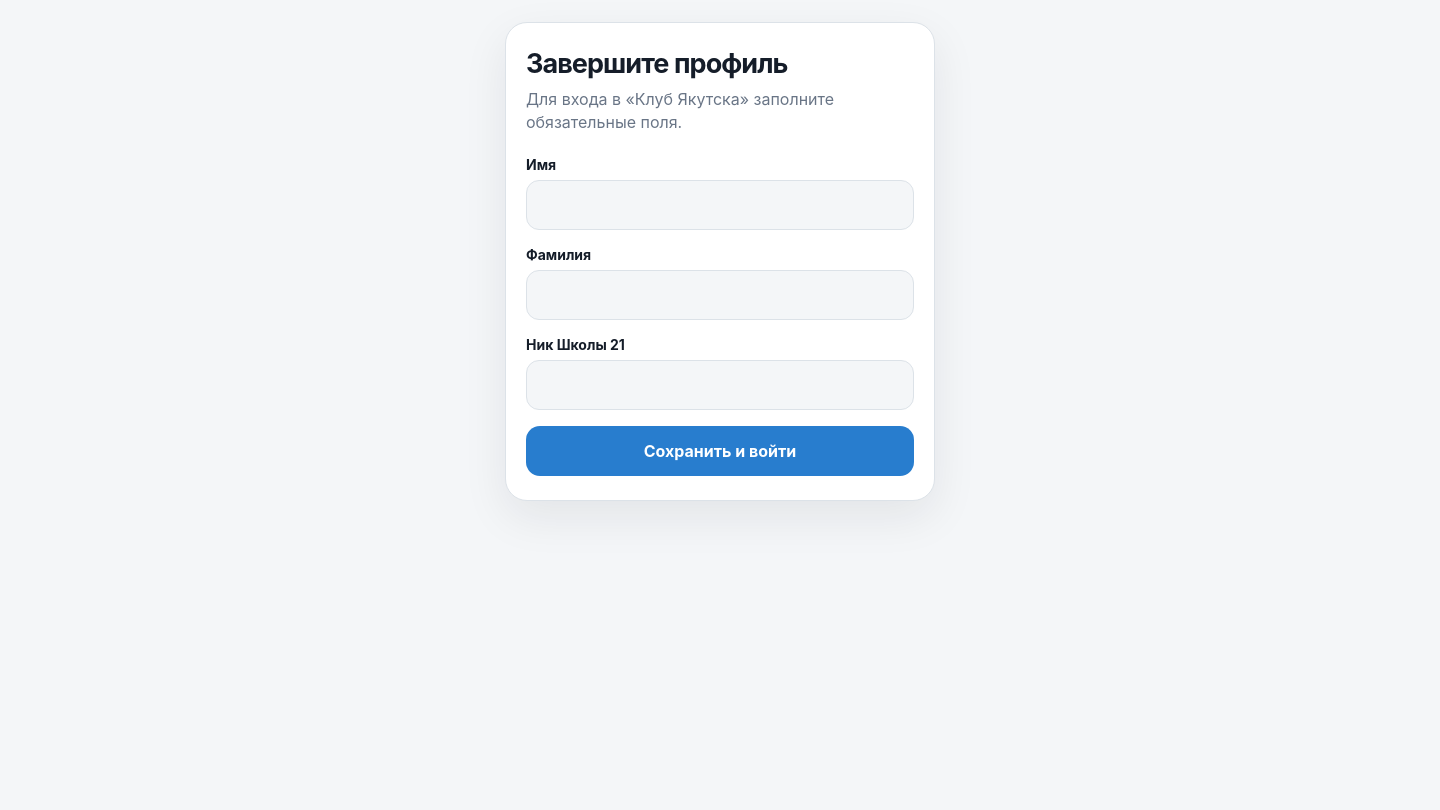
completes PROFILE_REQUIRED without an invitation
Expected: the heading "Завершите профиль" is shown, top-left (526, 47), bottom-right (788, 80)
Type "Иван" into the field labelled "Имя" at (720, 205), box top-left (526, 180), bottom-right (914, 230)
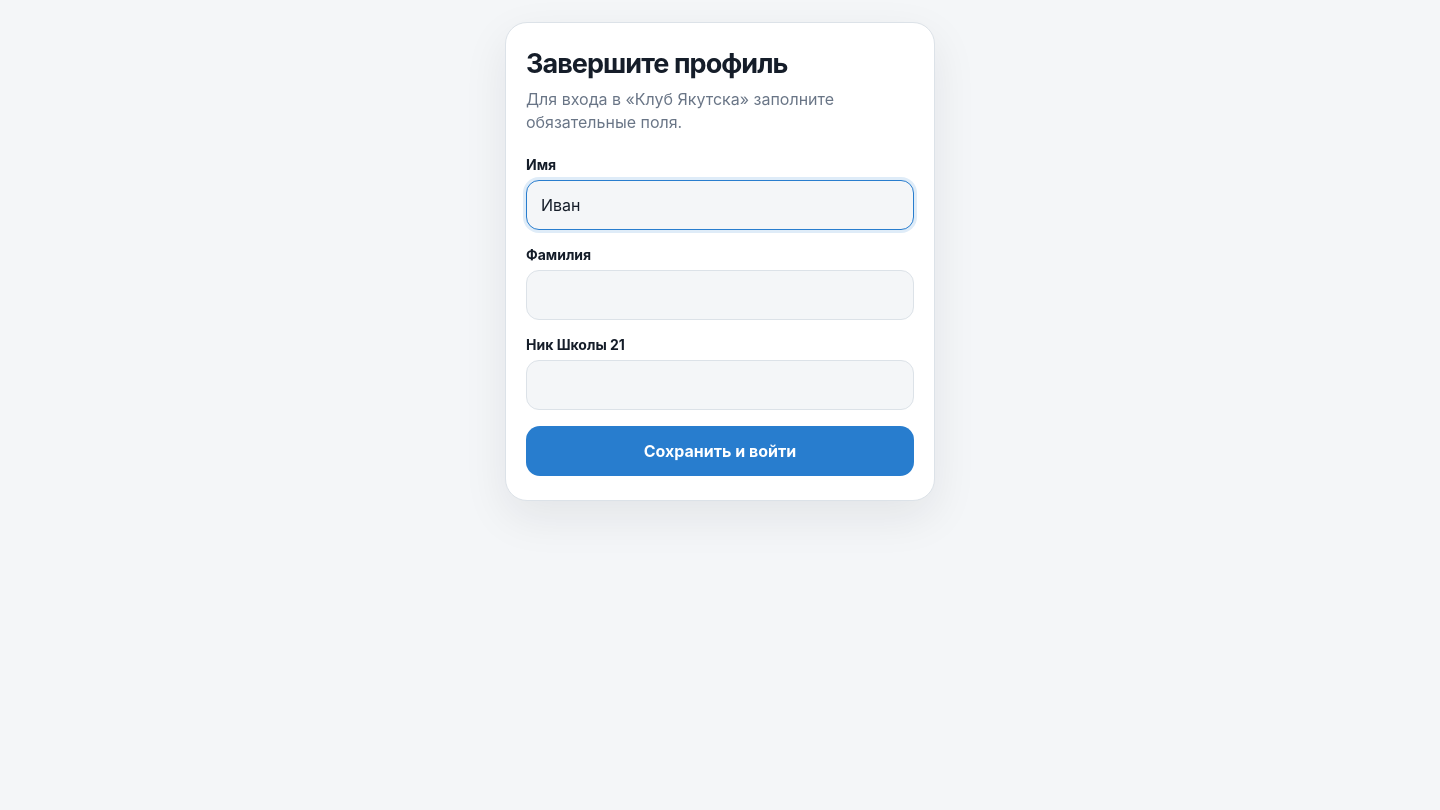
Type "Петров" into the field labelled "Фамилия" at (720, 295), box top-left (526, 270), bottom-right (914, 320)
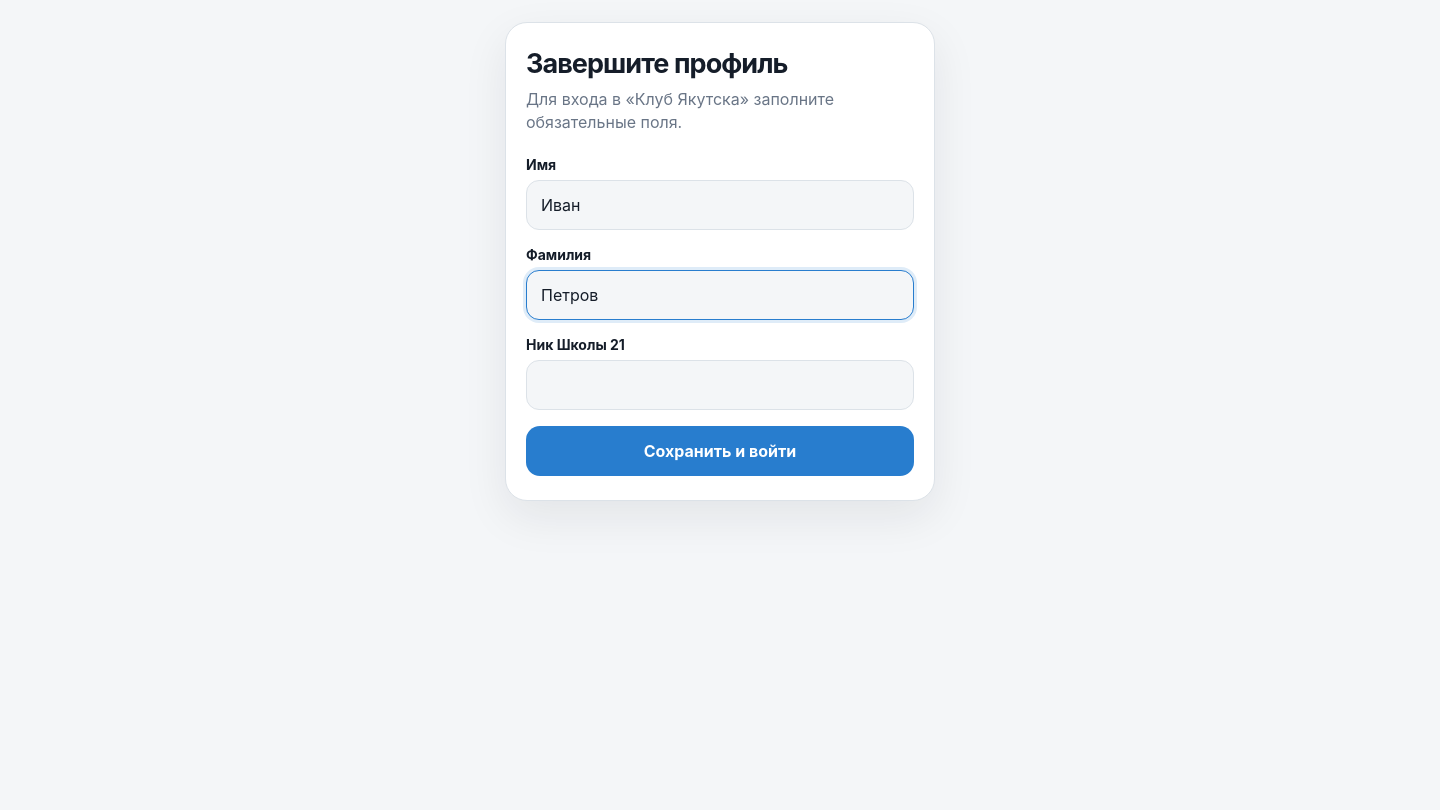
Type "ivan" into the field labelled "Ник Школы 21" at (720, 385), box top-left (526, 360), bottom-right (914, 410)
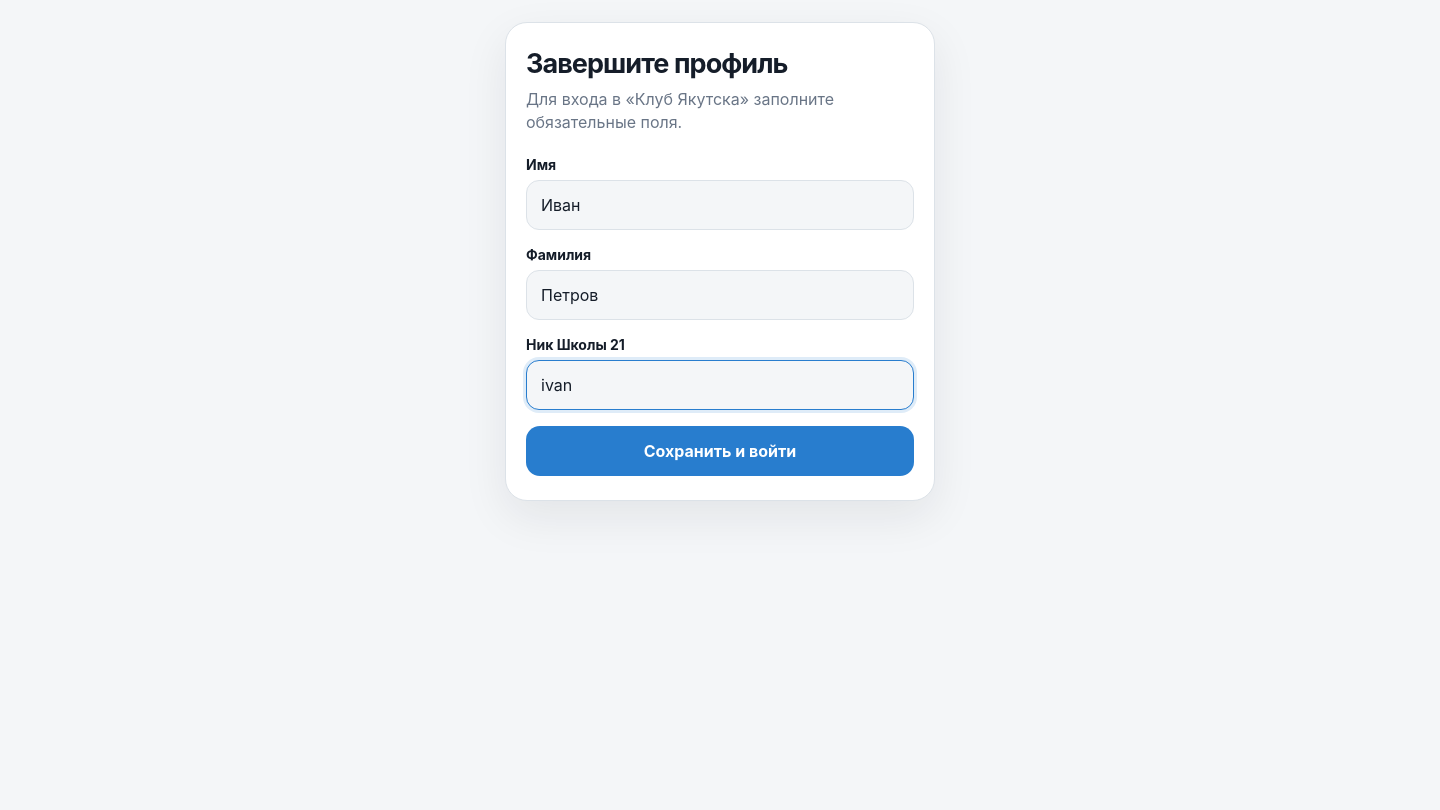
Click the button "Сохранить и войти" at (720, 451), box top-left (526, 426), bottom-right (914, 476)
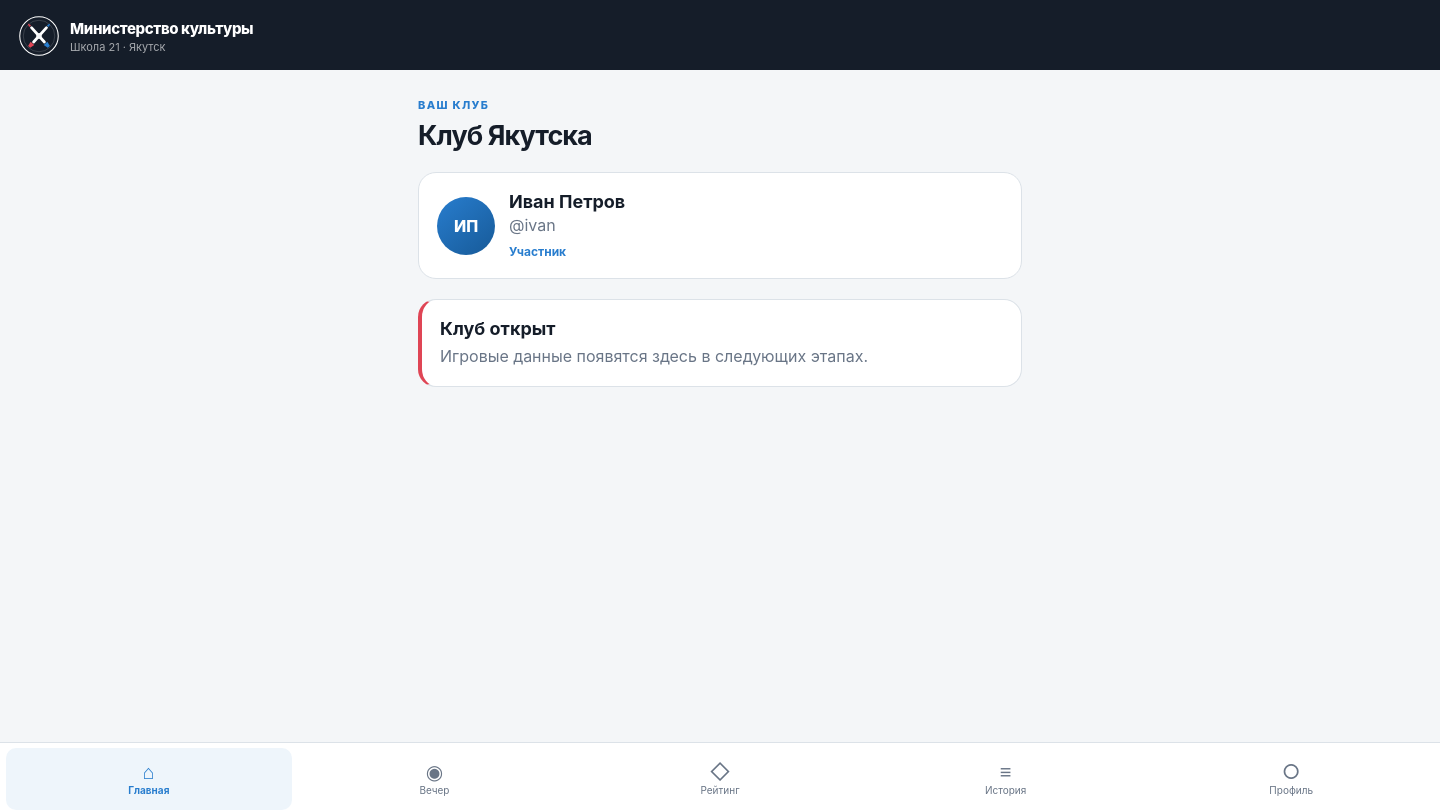
Expected: the heading "Клуб Якутска" is shown, top-left (418, 119), bottom-right (592, 152)
